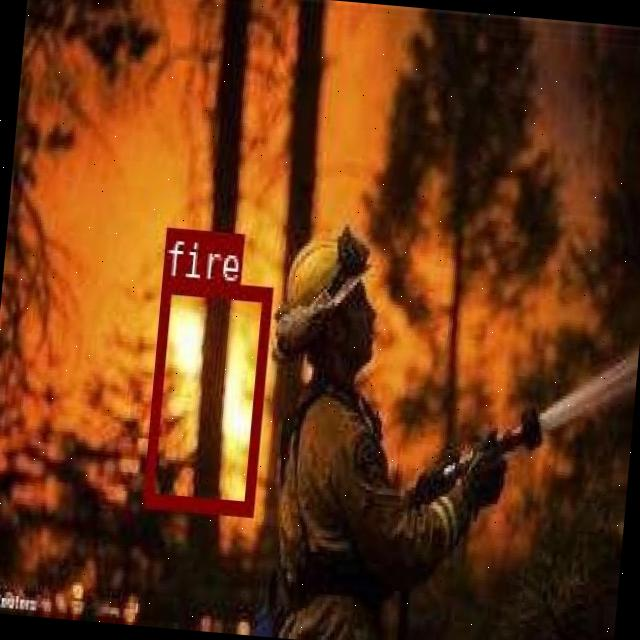fire: (142, 277, 270, 513)
